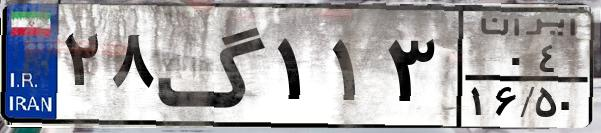0: (560, 70, 590, 125), (508, 27, 537, 80)
1: (270, 28, 330, 110), (330, 28, 385, 110), (470, 70, 495, 125)
2: (57, 26, 110, 100)
3: (385, 28, 445, 110)
4: (537, 27, 568, 80)
5: (535, 70, 560, 125)
6: (495, 70, 520, 125)
8: (110, 28, 156, 98)
گ: (156, 12, 270, 120)
